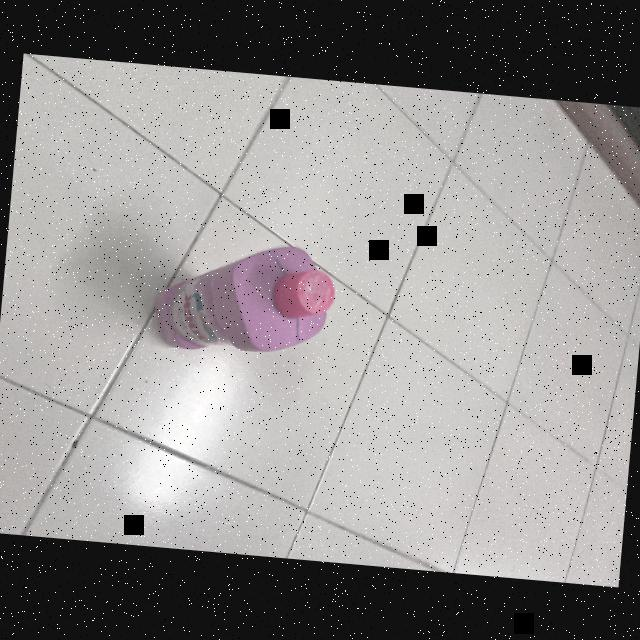chemical_plastic_bottle: (142, 228, 340, 370)
